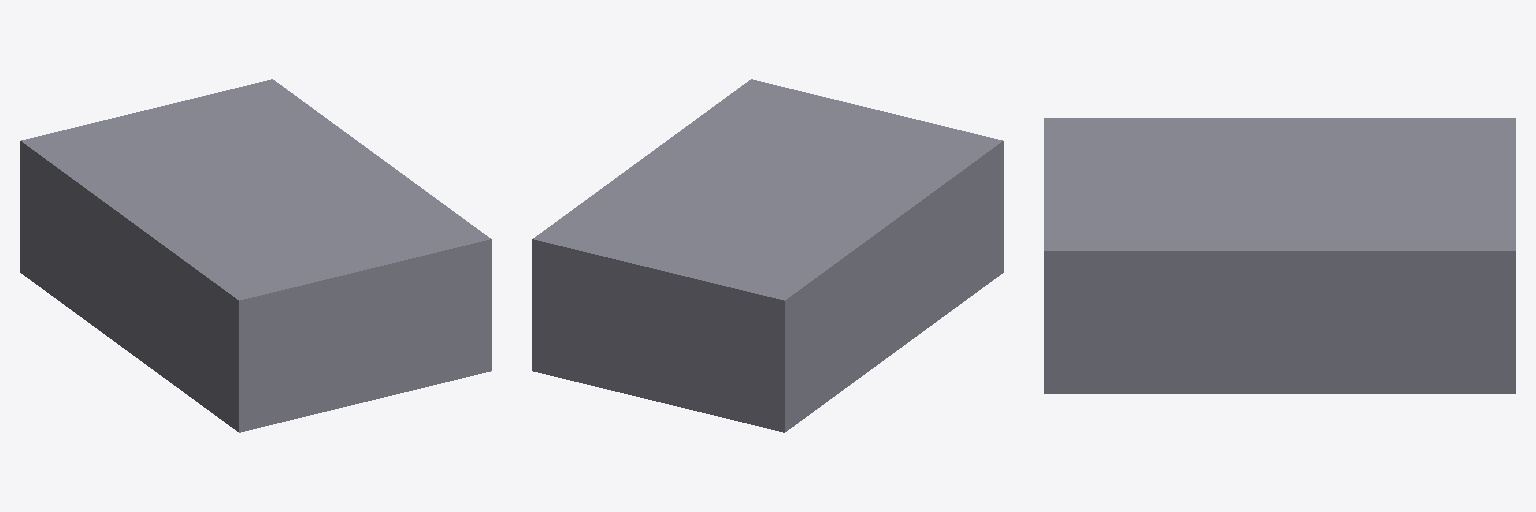
robot.urdf — my_robot:
<?xml version="1.0"?>
<!-- 3輪独立ステアリング(スワーブ)。base_link=正三角形の重心(車軸高さ)。前方=+X, 左=+Y。
     車輪半径 0.0321 m / 三角形の一辺 0.5 m。 -->
<robot name="my_robot">
  <material name="gray"><color rgba="0.6 0.6 0.65 1"/></material>
  <material name="black"><color rgba="0.1 0.1 0.1 1"/></material>
  <link name="base_link">
    <visual><geometry><mesh filename="package://my_robot_sim/meshes/body2.stl"/></geometry><material name="gray"/></visual>
    <collision><origin xyz="0 0 0.06" rpy="0 0 0"/><geometry><box size="0.40 0.40 0.10"/></geometry></collision>
    <inertial><origin xyz="0 0 0.05"/><mass value="8.0"/><inertia ixx="0.25" ixy="0" ixz="0" iyy="0.30" iyz="0" izz="0.50"/></inertial>
  </link>

  <link name="steer_fl">
    <inertial><mass value="0.2"/><inertia ixx="0.0002" ixy="0" ixz="0" iyy="0.0002" iyz="0" izz="0.0002"/></inertial>
  </link>
  <joint name="steer_fl_joint" type="continuous">
    <parent link="base_link"/><child link="steer_fl"/>
    <origin xyz="0.14434 0.25000 0" rpy="0 0 0"/>
    <axis xyz="0 0 1"/>
    <dynamics damping="0.05"/>
  </joint>
  <link name="wheel_fl">
    <visual><origin rpy="1.5708 0 0"/><geometry><cylinder radius="0.0321" length="0.03"/></geometry><material name="black"/></visual>
    <collision><origin rpy="1.5708 0 0"/><geometry><cylinder radius="0.0321" length="0.03"/></geometry></collision>
    <inertial><mass value="0.2"/><inertia ixx="0.0001" ixy="0" ixz="0" iyy="0.0001" iyz="0" izz="0.0001"/></inertial>
  </link>
  <joint name="wheel_fl_joint" type="continuous">
    <parent link="steer_fl"/><child link="wheel_fl"/>
    <origin xyz="0 0 0"/><axis xyz="0 1 0"/>
    <dynamics damping="0.01"/>
  </joint>
  <gazebo reference="wheel_fl">
    <mu1>1.0</mu1><mu2>1.0</mu2>
  </gazebo>

  <link name="steer_fr">
    <inertial><mass value="0.2"/><inertia ixx="0.0002" ixy="0" ixz="0" iyy="0.0002" iyz="0" izz="0.0002"/></inertial>
  </link>
  <joint name="steer_fr_joint" type="continuous">
    <parent link="base_link"/><child link="steer_fr"/>
    <origin xyz="0.14434 -0.25000 0" rpy="0 0 0"/>
    <axis xyz="0 0 1"/>
    <dynamics damping="0.05"/>
  </joint>
  <link name="wheel_fr">
    <visual><origin rpy="1.5708 0 0"/><geometry><cylinder radius="0.0321" length="0.03"/></geometry><material name="black"/></visual>
    <collision><origin rpy="1.5708 0 0"/><geometry><cylinder radius="0.0321" length="0.03"/></geometry></collision>
    <inertial><mass value="0.2"/><inertia ixx="0.0001" ixy="0" ixz="0" iyy="0.0001" iyz="0" izz="0.0001"/></inertial>
  </link>
  <joint name="wheel_fr_joint" type="continuous">
    <parent link="steer_fr"/><child link="wheel_fr"/>
    <origin xyz="0 0 0"/><axis xyz="0 1 0"/>
    <dynamics damping="0.01"/>
  </joint>
  <gazebo reference="wheel_fr">
    <mu1>1.0</mu1><mu2>1.0</mu2>
  </gazebo>

  <link name="steer_rr">
    <inertial><mass value="0.2"/><inertia ixx="0.0002" ixy="0" ixz="0" iyy="0.0002" iyz="0" izz="0.0002"/></inertial>
  </link>
  <joint name="steer_rr_joint" type="continuous">
    <parent link="base_link"/><child link="steer_rr"/>
    <origin xyz="-0.28868 0.00000 0" rpy="0 0 0"/>
    <axis xyz="0 0 1"/>
    <dynamics damping="0.05"/>
  </joint>
  <link name="wheel_rr">
    <visual><origin rpy="1.5708 0 0"/><geometry><cylinder radius="0.0321" length="0.03"/></geometry><material name="black"/></visual>
    <collision><origin rpy="1.5708 0 0"/><geometry><cylinder radius="0.0321" length="0.03"/></geometry></collision>
    <inertial><mass value="0.2"/><inertia ixx="0.0001" ixy="0" ixz="0" iyy="0.0001" iyz="0" izz="0.0001"/></inertial>
  </link>
  <joint name="wheel_rr_joint" type="continuous">
    <parent link="steer_rr"/><child link="wheel_rr"/>
    <origin xyz="0 0 0"/><axis xyz="0 1 0"/>
    <dynamics damping="0.01"/>
  </joint>
  <gazebo reference="wheel_rr">
    <mu1>1.0</mu1><mu2>1.0</mu2>
  </gazebo>


  <!-- ================= ライダー: Hokuyo UTM-30LX-EW (2D, 前方180度のみ使用) =================
       底辺パイプ内側中央 = base_link 前方 0.1852 m。ライダーはそこから外側へ 60.096 mm。 -->
  <link name="lidar_link">
    <inertial>
      <mass value="0.21"/>
      <inertia ixx="0.0001" ixy="0" ixz="0" iyy="0.0001" iyz="0" izz="0.0001"/>
    </inertial>
  </link>
  <joint name="lidar_joint" type="fixed">
    <parent link="base_link"/><child link="lidar_link"/>
    <origin xyz="0.24530 0 0.0125" rpy="0 0 0"/>
  </joint>
  <gazebo reference="lidar_link">
    <sensor name="utm30lx_ew" type="gpu_lidar">
      <topic>scan</topic>
      <gz_frame_id>lidar_link</gz_frame_id>
      <update_rate>20</update_rate>
      <always_on>true</always_on>
      <visualize>false</visualize>
      <lidar>
        <scan>
          <horizontal>
            <samples>721</samples>
            <resolution>1</resolution>
            <min_angle>-1.570796</min_angle>
            <max_angle>1.570796</max_angle>
          </horizontal>
        </scan>
        <range>
          <min>0.1</min>
          <max>30.0</max>
          <resolution>0.001</resolution>
        </range>
        <noise>
          <type>gaussian</type>
          <mean>0.0</mean>
          <stddev>0.01</stddev>
        </noise>
      </lidar>
    </sensor>
  </gazebo>

  <!-- ================= IMU: LSM6DSV16X 基板 x3 (車体中央、同一姿勢と仮定) =================
       ノイズ: ジャイロ 2.8 mdps/√Hz, 加速度 60 ug/√Hz を 200Hz(帯域100Hz)で換算した概算値 -->
  <link name="imu_0_link">
    <inertial>
      <mass value="0.005"/>
      <inertia ixx="1e-6" ixy="0" ixz="0" iyy="1e-6" iyz="0" izz="1e-6"/>
    </inertial>
  </link>
  <joint name="imu_0_joint" type="fixed">
    <parent link="base_link"/><child link="imu_0_link"/>
    <origin xyz="0 0 0.05" rpy="0 0 0"/>
  </joint>
  <gazebo reference="imu_0_link">
    <sensor name="imu_0" type="imu">
      <topic>imu_0</topic>
      <gz_frame_id>imu_0_link</gz_frame_id>
      <update_rate>100</update_rate>
      <always_on>true</always_on>
      <imu>
        <angular_velocity>
          <x><noise type="gaussian"><mean>0</mean><stddev>4.9e-4</stddev></noise></x>
          <y><noise type="gaussian"><mean>0</mean><stddev>4.9e-4</stddev></noise></y>
          <z><noise type="gaussian"><mean>0</mean><stddev>4.9e-4</stddev></noise></z>
        </angular_velocity>
        <linear_acceleration>
          <x><noise type="gaussian"><mean>0</mean><stddev>5.9e-3</stddev></noise></x>
          <y><noise type="gaussian"><mean>0</mean><stddev>5.9e-3</stddev></noise></y>
          <z><noise type="gaussian"><mean>0</mean><stddev>5.9e-3</stddev></noise></z>
        </linear_acceleration>
      </imu>
    </sensor>
  </gazebo>
  <link name="imu_1_link">
    <inertial>
      <mass value="0.005"/>
      <inertia ixx="1e-6" ixy="0" ixz="0" iyy="1e-6" iyz="0" izz="1e-6"/>
    </inertial>
  </link>
  <joint name="imu_1_joint" type="fixed">
    <parent link="base_link"/><child link="imu_1_link"/>
    <origin xyz="0 0 0.05" rpy="0 0 0"/>
  </joint>
  <gazebo reference="imu_1_link">
    <sensor name="imu_1" type="imu">
      <topic>imu_1</topic>
      <gz_frame_id>imu_1_link</gz_frame_id>
      <update_rate>100</update_rate>
      <always_on>true</always_on>
      <imu>
        <angular_velocity>
          <x><noise type="gaussian"><mean>0</mean><stddev>4.9e-4</stddev></noise></x>
          <y><noise type="gaussian"><mean>0</mean><stddev>4.9e-4</stddev></noise></y>
          <z><noise type="gaussian"><mean>0</mean><stddev>4.9e-4</stddev></noise></z>
        </angular_velocity>
        <linear_acceleration>
          <x><noise type="gaussian"><mean>0</mean><stddev>5.9e-3</stddev></noise></x>
          <y><noise type="gaussian"><mean>0</mean><stddev>5.9e-3</stddev></noise></y>
          <z><noise type="gaussian"><mean>0</mean><stddev>5.9e-3</stddev></noise></z>
        </linear_acceleration>
      </imu>
    </sensor>
  </gazebo>
  <link name="imu_2_link">
    <inertial>
      <mass value="0.005"/>
      <inertia ixx="1e-6" ixy="0" ixz="0" iyy="1e-6" iyz="0" izz="1e-6"/>
    </inertial>
  </link>
  <joint name="imu_2_joint" type="fixed">
    <parent link="base_link"/><child link="imu_2_link"/>
    <origin xyz="0 0 0.05" rpy="0 0 0"/>
  </joint>
  <gazebo reference="imu_2_link">
    <sensor name="imu_2" type="imu">
      <topic>imu_2</topic>
      <gz_frame_id>imu_2_link</gz_frame_id>
      <update_rate>100</update_rate>
      <always_on>true</always_on>
      <imu>
        <angular_velocity>
          <x><noise type="gaussian"><mean>0</mean><stddev>4.9e-4</stddev></noise></x>
          <y><noise type="gaussian"><mean>0</mean><stddev>4.9e-4</stddev></noise></y>
          <z><noise type="gaussian"><mean>0</mean><stddev>4.9e-4</stddev></noise></z>
        </angular_velocity>
        <linear_acceleration>
          <x><noise type="gaussian"><mean>0</mean><stddev>5.9e-3</stddev></noise></x>
          <y><noise type="gaussian"><mean>0</mean><stddev>5.9e-3</stddev></noise></y>
          <z><noise type="gaussian"><mean>0</mean><stddev>5.9e-3</stddev></noise></z>
        </linear_acceleration>
      </imu>
    </sensor>
  </gazebo>

  <ros2_control name="GazeboSystem" type="system">
    <hardware><plugin>gz_ros2_control/GazeboSimSystem</plugin></hardware>
    <joint name="steer_fl_joint">
      <command_interface name="position"/>
      <state_interface name="position"/><state_interface name="velocity"/>
    </joint>
    <joint name="wheel_fl_joint">
      <command_interface name="velocity"/>
      <state_interface name="position"/><state_interface name="velocity"/>
    </joint>
    <joint name="steer_fr_joint">
      <command_interface name="position"/>
      <state_interface name="position"/><state_interface name="velocity"/>
    </joint>
    <joint name="wheel_fr_joint">
      <command_interface name="velocity"/>
      <state_interface name="position"/><state_interface name="velocity"/>
    </joint>
    <joint name="steer_rr_joint">
      <command_interface name="position"/>
      <state_interface name="position"/><state_interface name="velocity"/>
    </joint>
    <joint name="wheel_rr_joint">
      <command_interface name="velocity"/>
      <state_interface name="position"/><state_interface name="velocity"/>
    </joint>
  </ros2_control>

  <gazebo>
    <plugin filename="gz_ros2_control-system" name="gz_ros2_control::GazeboSimROS2ControlPlugin">
      <parameters>CONTROLLERS_YAML</parameters>
    </plugin>
  </gazebo>
  <!-- 【シミュレーション専用】真の姿勢を出力。仮想エンコーダの元データに使う -->
  <gazebo>
    <plugin filename="gz-sim-odometry-publisher-system"
            name="gz::sim::systems::OdometryPublisher">
      <odom_frame>ground_truth_odom</odom_frame>
      <robot_base_frame>base_link</robot_base_frame>
      <odom_topic>/ground_truth/odom</odom_topic>
      <odom_publish_frequency>100</odom_publish_frequency>
      <dimensions>3</dimensions>
    </plugin>
  </gazebo>

</robot>

--- Render facts (derived) ---
Views: 3 orthographic renders of the robot side by side, from view 1: azimuth 30°, elevation 25°; view 2: azimuth 150°, elevation 25°; view 3: azimuth 270°, elevation 25°.
Model my_robot with 11 links and 10 joints (6 continuous, 4 fixed), rooted at base_link, posed all joints at 0.
Links seen in each view (by area): view 1: base_link; view 2: base_link; view 3: base_link.
Link boxes in pixels (left/top/right/bottom): base_link: left=20, top=79, right=491, bottom=432; base_link: left=532, top=79, right=1003, bottom=432; base_link: left=1044, top=118, right=1515, bottom=393.
Size in the robot's own frame: 200 by 300 by 100 metres.
1 mesh visuals loaded from 1 distinct referenced files (1 binary STL).
